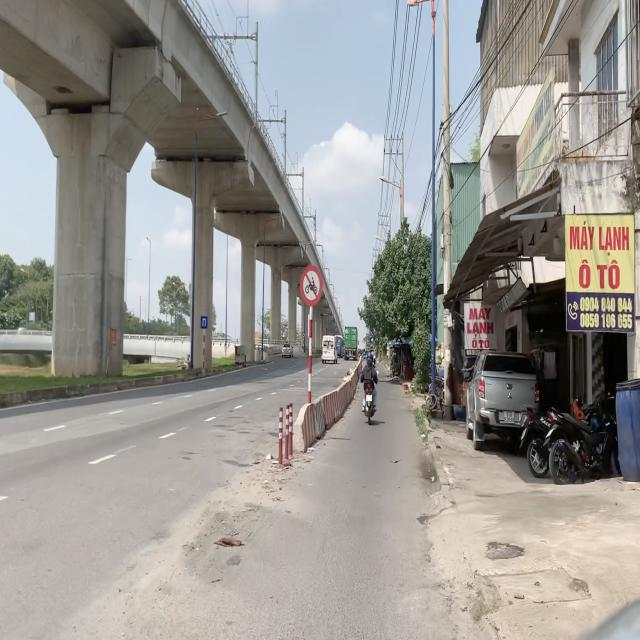Cam con lai: (301, 267, 323, 307)
Chi dan: (200, 316, 208, 329)
